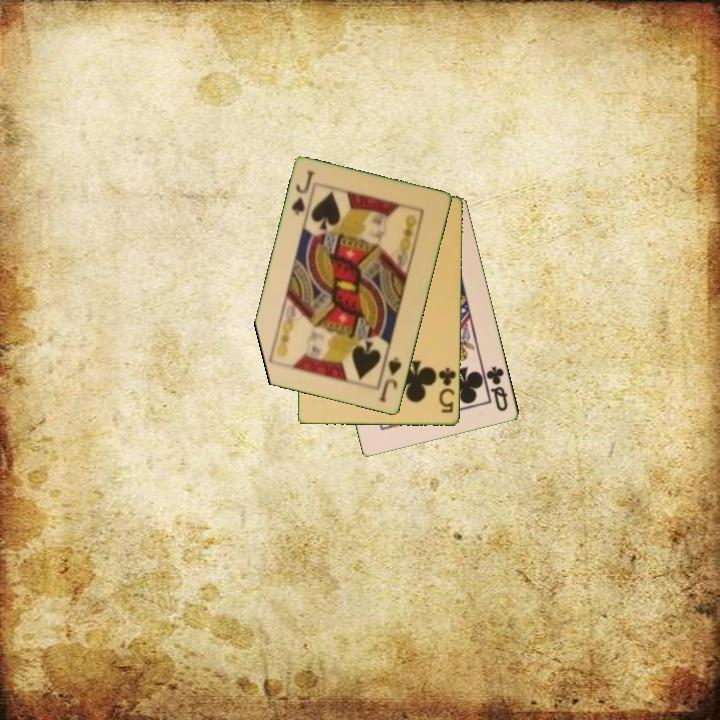5c: (436, 365, 459, 416)
Js: (288, 167, 318, 219), (375, 354, 405, 405)
Qc: (483, 363, 511, 415)
